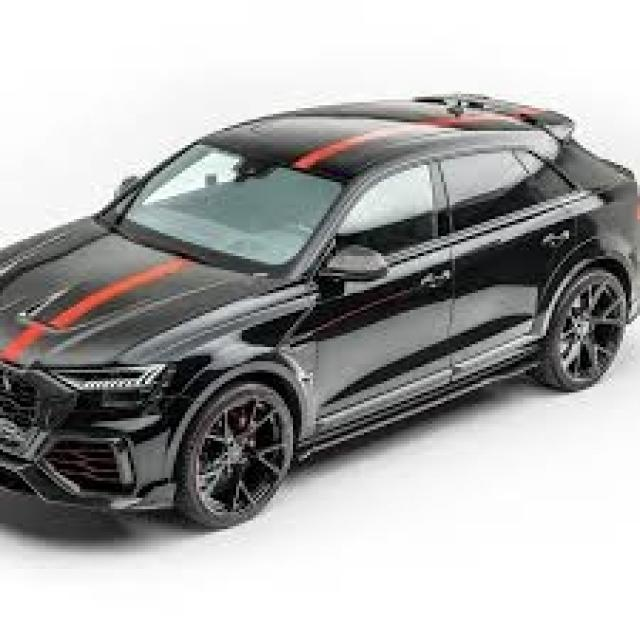black: (0, 104, 640, 478)
